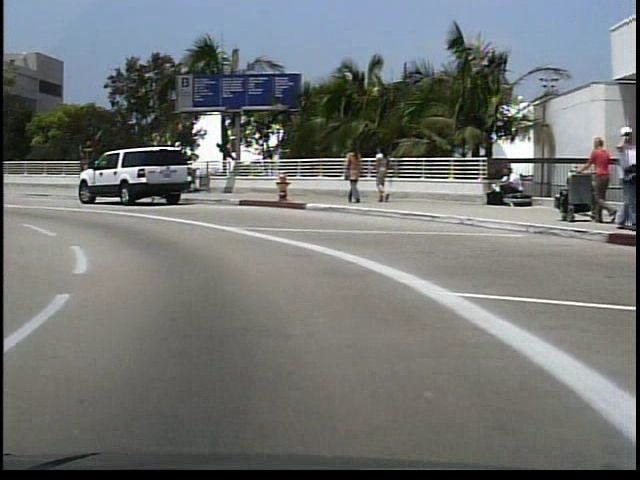person: (579, 131, 609, 228), (341, 139, 362, 208), (368, 145, 391, 204), (486, 166, 518, 208)
